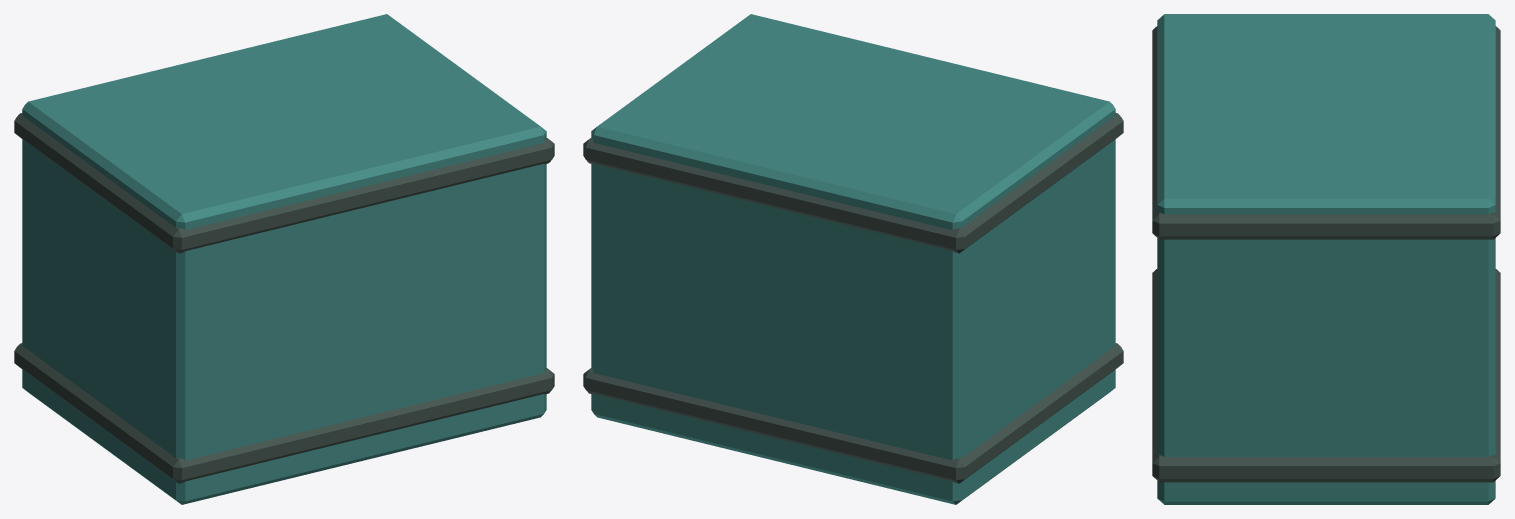
Rendered from supply_crate.glb.
3 renders of one model, left to right at view 1: azimuth 30°, elevation 25°; view 2: azimuth 150°, elevation 25°; view 3: azimuth 270°, elevation 25°, orthographic. The views are drawn at different scales.
Parts seen in each view (by area): view 1: supply_crate.001; view 2: supply_crate.001; view 3: supply_crate.001.
Part boxes in pixels (left/top/right/bottom): supply_crate.001: left=14, top=14, right=554, bottom=504; supply_crate.001: left=583, top=14, right=1123, bottom=504; supply_crate.001: left=1152, top=14, right=1500, bottom=504.
Bounding box in the file's own units: 1.65 × 1.2 × 1.24.
